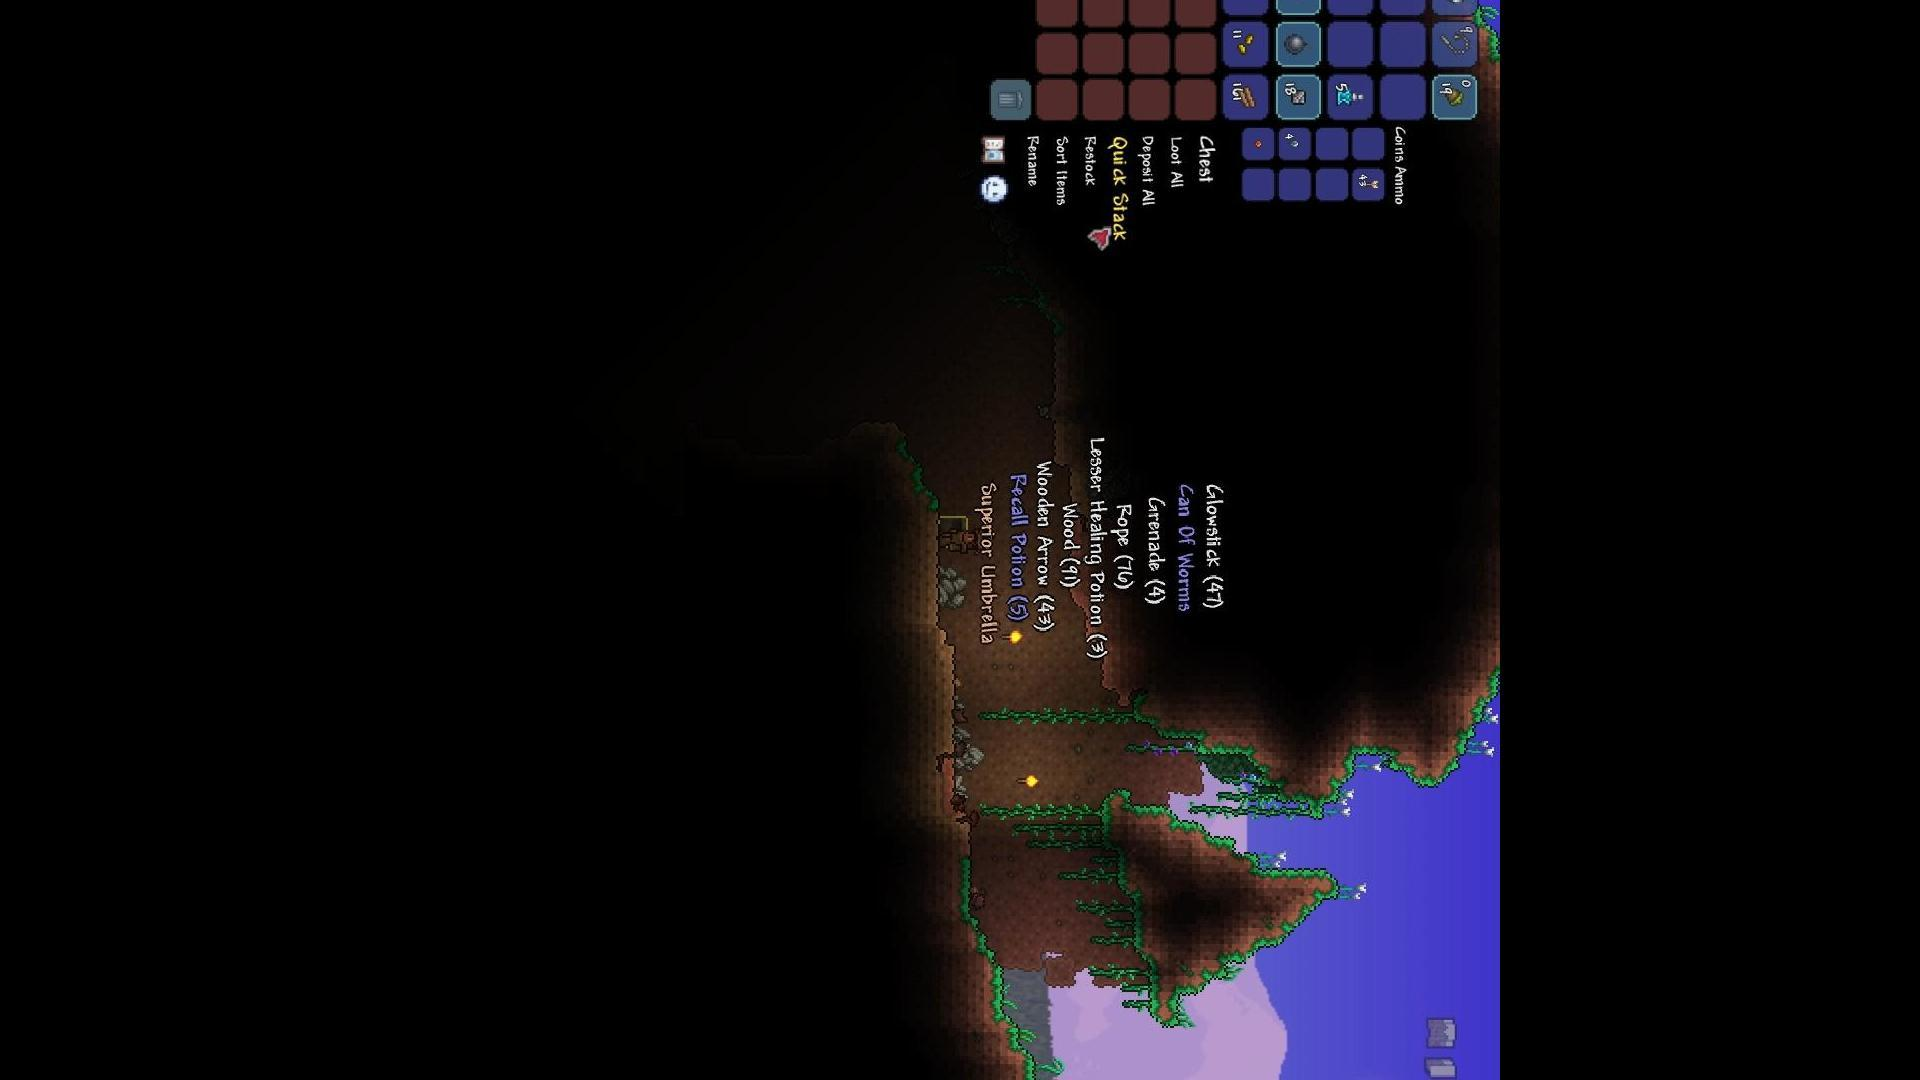bomb: (1280, 32, 1309, 58)
